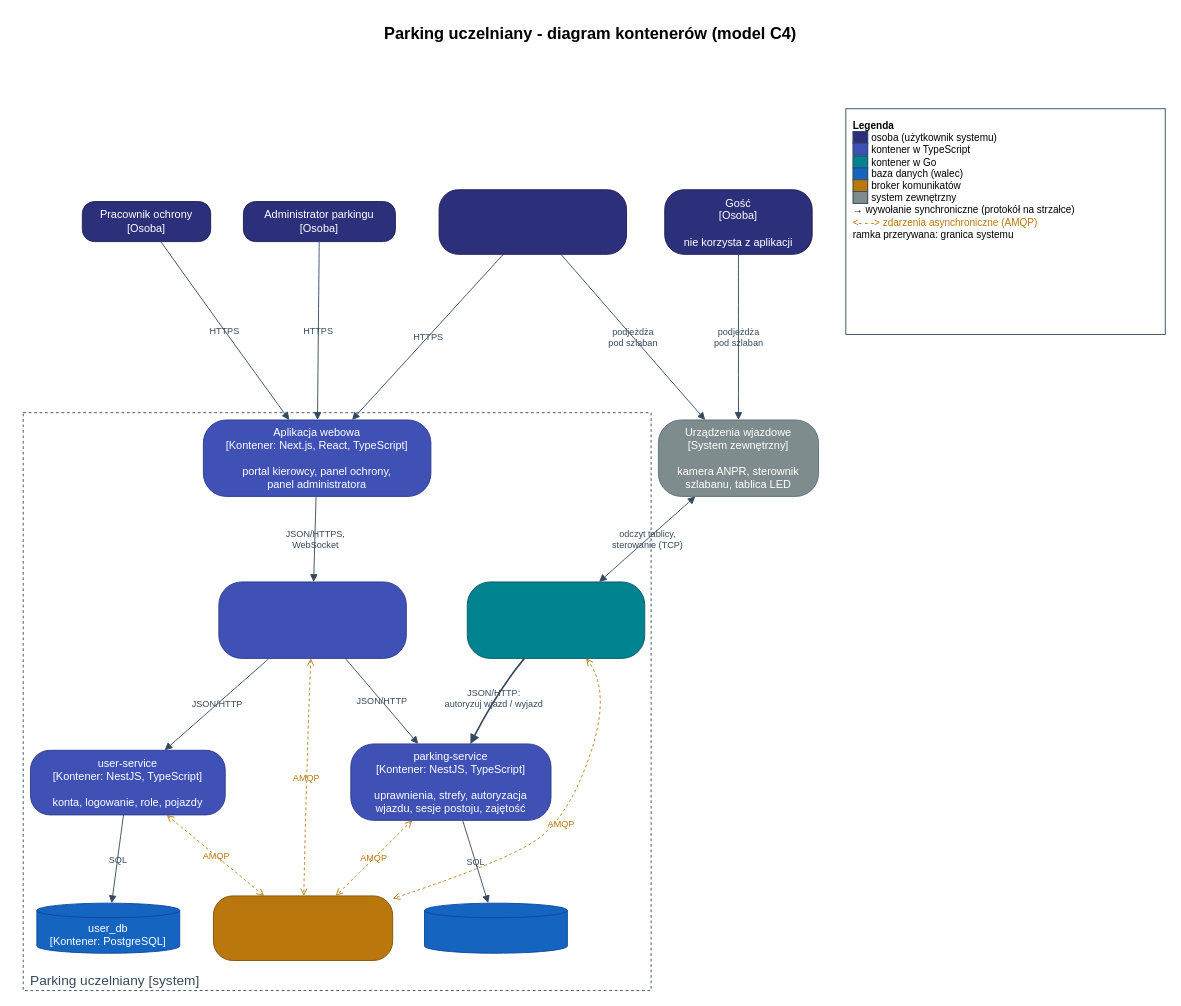
The diagram is 1181 pixels wide and 1006 high, and some of its shapes have lost their labels. Each missing label, with the centre of its shape:
"API Gateway [Kontener: NestJS, TypeScript] routing, weryfikacja JWT, WebSocket" goes at point 312,619.
"gate-service [Kontener: Go] obsługa kamer i szlabanów, tryb awaryjny offline" goes at point 555,619.
"Kierowca [Osoba] student lub pracownik uczelni" goes at point 532,221.
"Magistrala zdarzeń [Kontener: RabbitMQ] zdarzenia między serwisami" goes at point 302,928.
"parking_db [Kontener: PostgreSQL]" goes at point 495,927.
